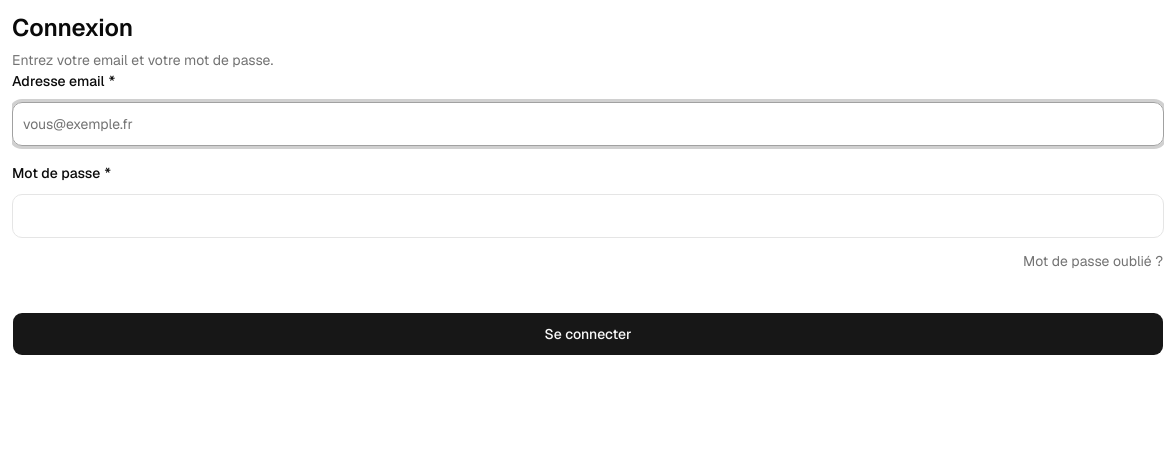
SignInScreen › handles a rejected sign-in: French message, button usable again
Type "olivier@exemple.fr" into the field labelled "Adresse email" at (588, 124), box x1=12 y1=102 x2=1164 y2=146
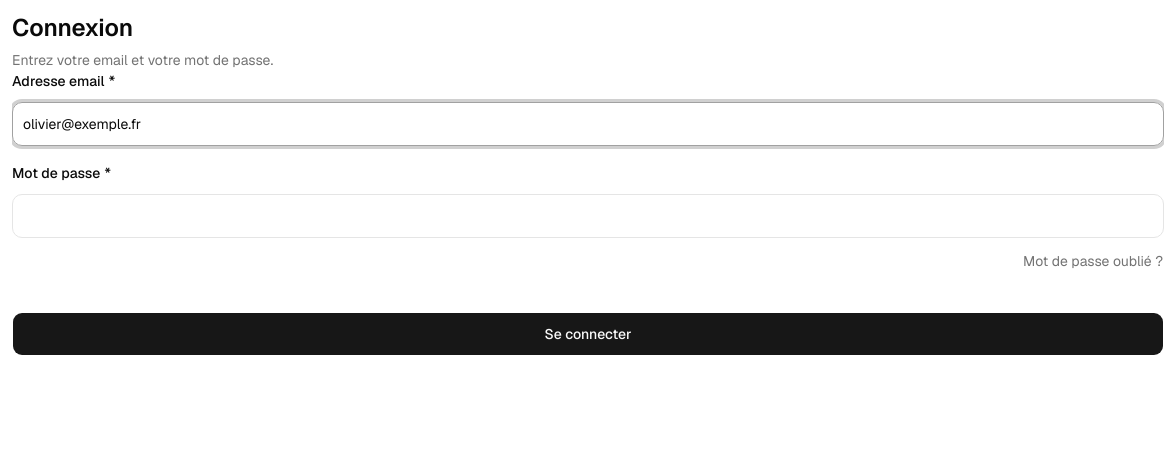
Type "motdepasse123" into the password field labelled "Mot de passe" at (588, 216), box x1=12 y1=194 x2=1164 y2=238
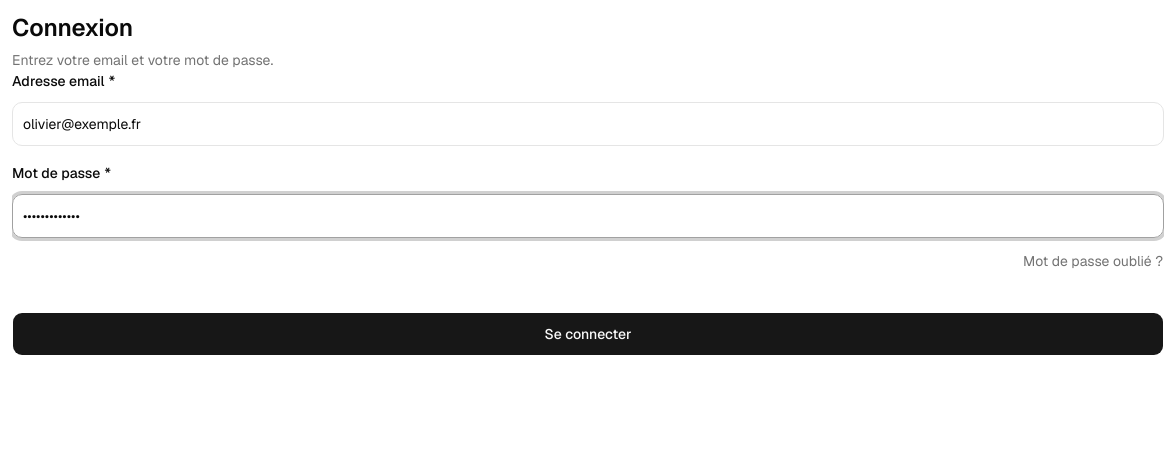
Click the button "Se connecter" at (588, 334), box x1=12 y1=312 x2=1164 y2=356
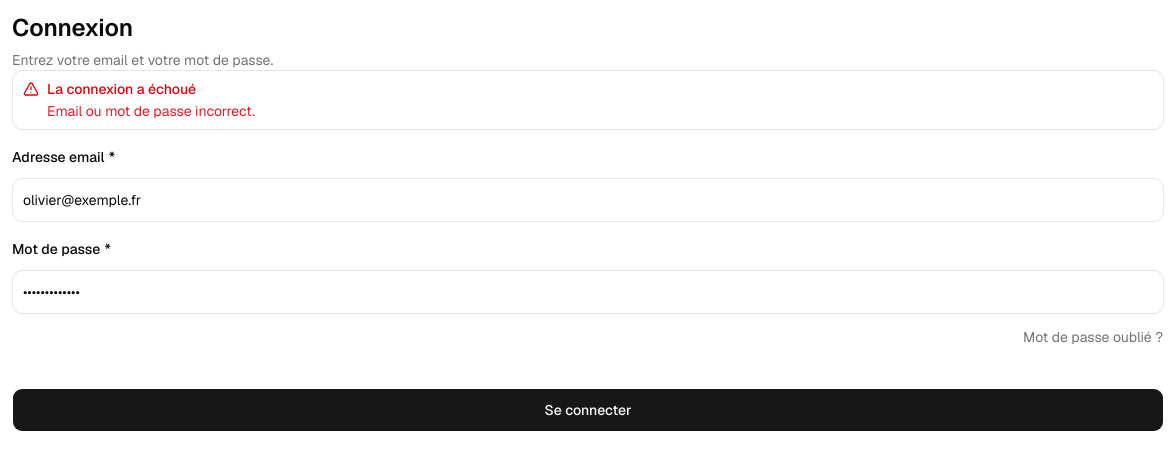
Expected: the button "Se connecter" is enabled, x1=12 y1=388 x2=1164 y2=432
Expected: the text "Email ou mot de passe incorrect." is shown, x1=47 y1=102 x2=255 y2=120
